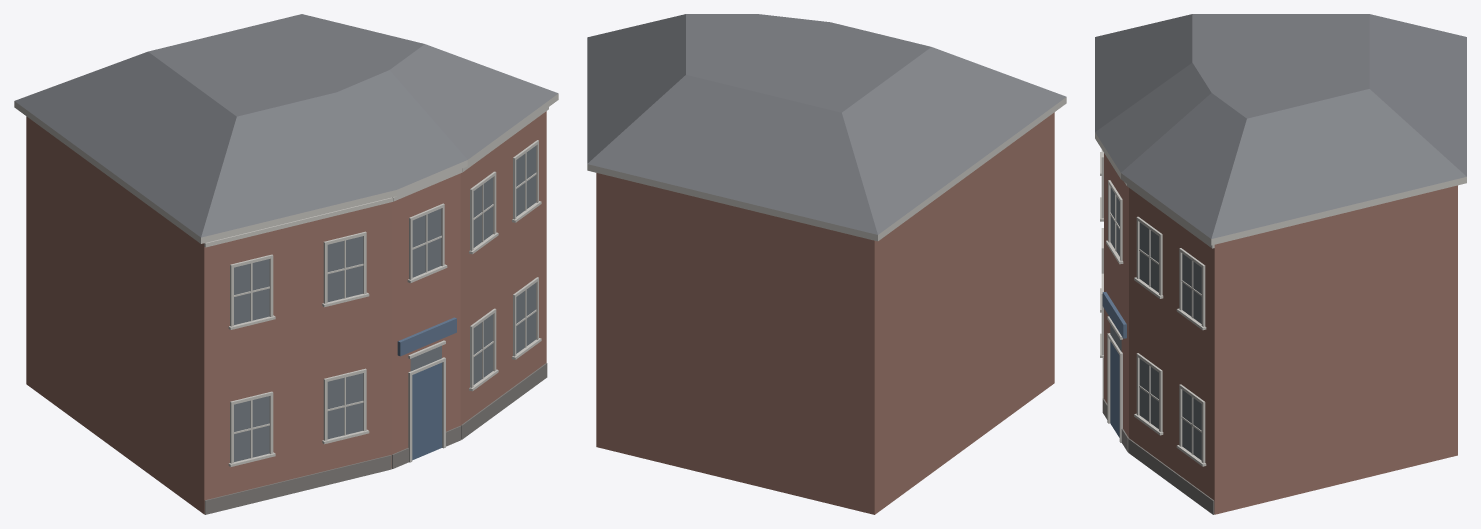
The model's file is corner_30.glb.
3 renders of one model, left to right at view 1: azimuth 30°, elevation 25°; view 2: azimuth 150°, elevation 25°; view 3: azimuth 270°, elevation 25°, orthographic.
Parts seen in each view (by area): view 1: Part0; view 2: Part0; view 3: Part0.
Boxes of the visible parts, box(x1,y1,x2,y2) form: Part0: box(14, 14, 558, 514); Part0: box(587, 14, 1066, 514); Part0: box(1095, 14, 1466, 514).
Bounding box in the file's own units: 10.8 × 8.6 × 8.4.
